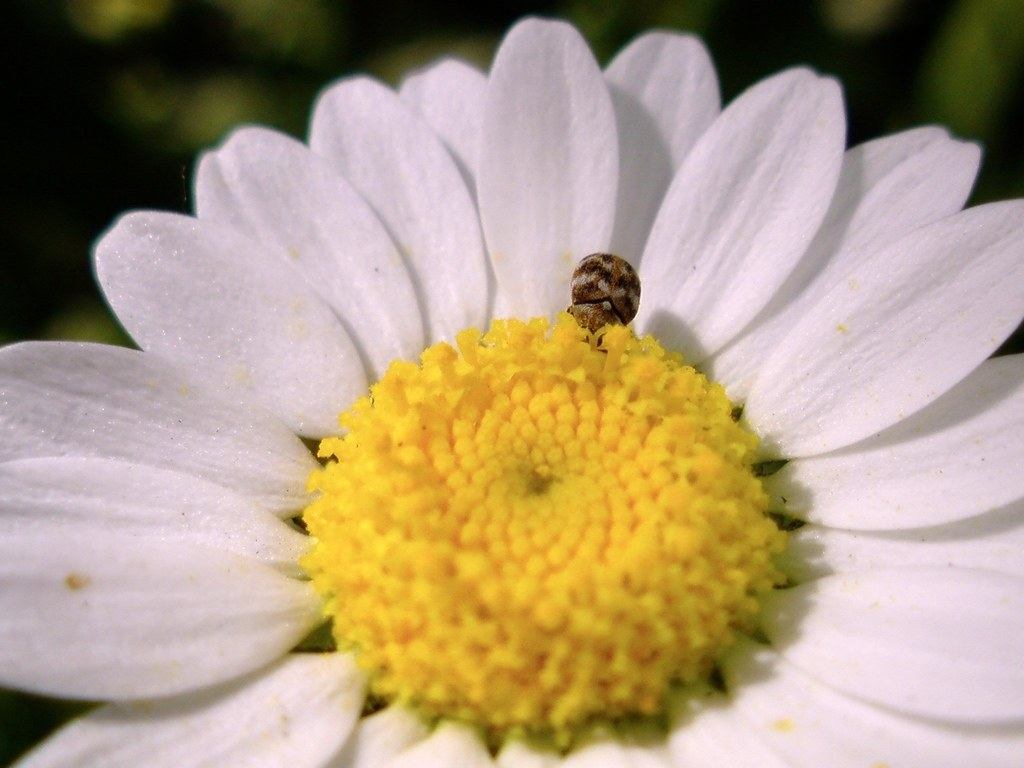bee: (551, 246, 650, 349)
insect: (0, 16, 1023, 767)
